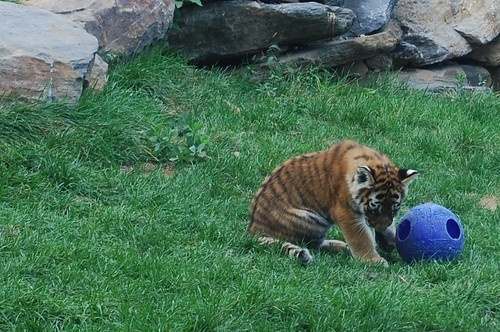tigre: (240, 139, 418, 271)
